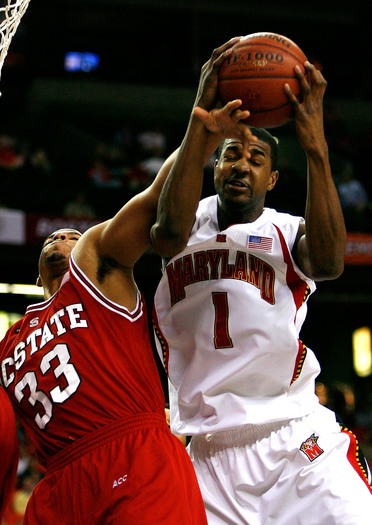basketball: (218, 32, 305, 127)
